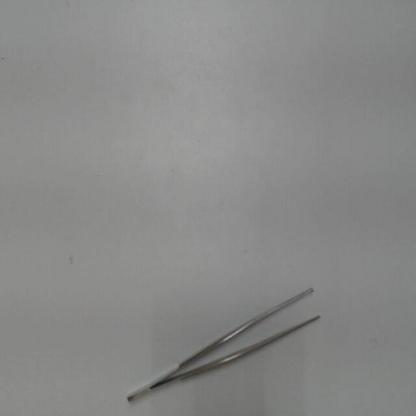Gillies Toothed Dissector: (112, 277, 328, 408)
